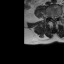CCS_stenosis: (53, 14, 54, 22)
LFS_normal: (56, 14, 58, 19)
LLS_normal: (54, 14, 56, 21)
RFS_stenosis: (49, 13, 51, 19)
RLS_normal: (51, 15, 53, 20)
